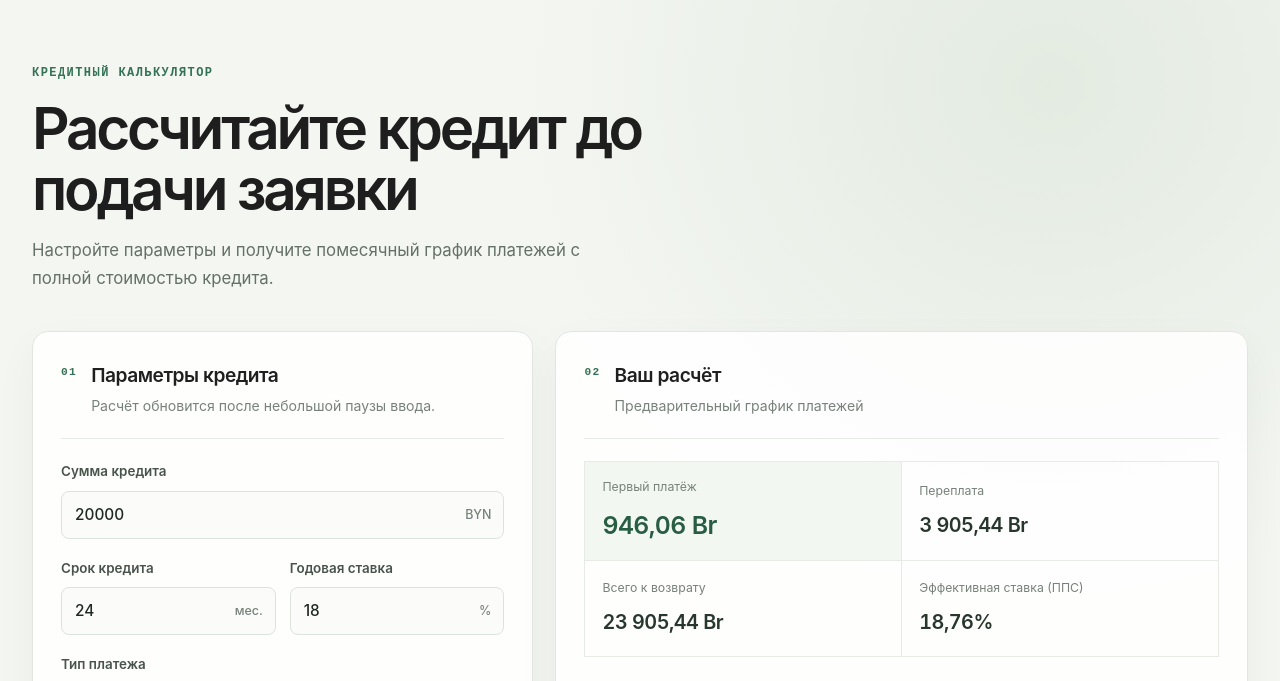
Test: CalculatorPage › shows a validation error when the amount is empty
Step 1. Clear the number field labelled "Сумма кредита BYN" → (283, 515), box [61,491,504,539]
Wait 100 ms
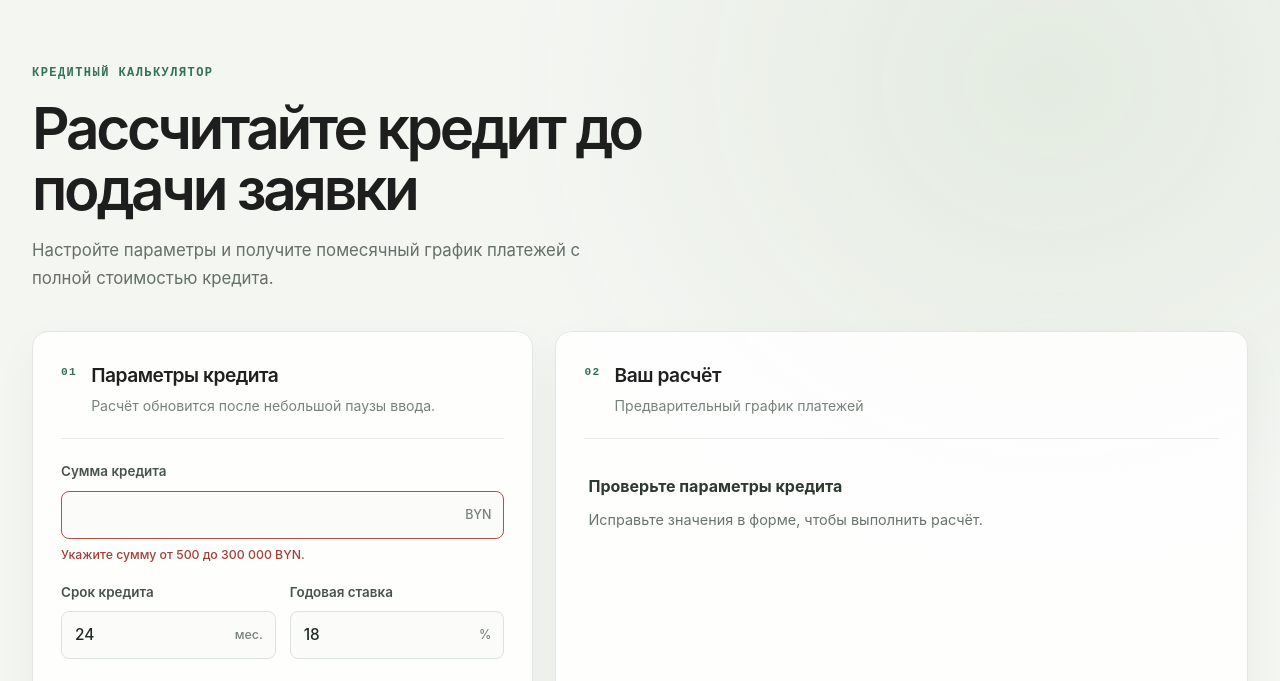
Check: the text "Укажите сумму от 500 до 300 000 BYN." is shown, box [61,547,305,562]
